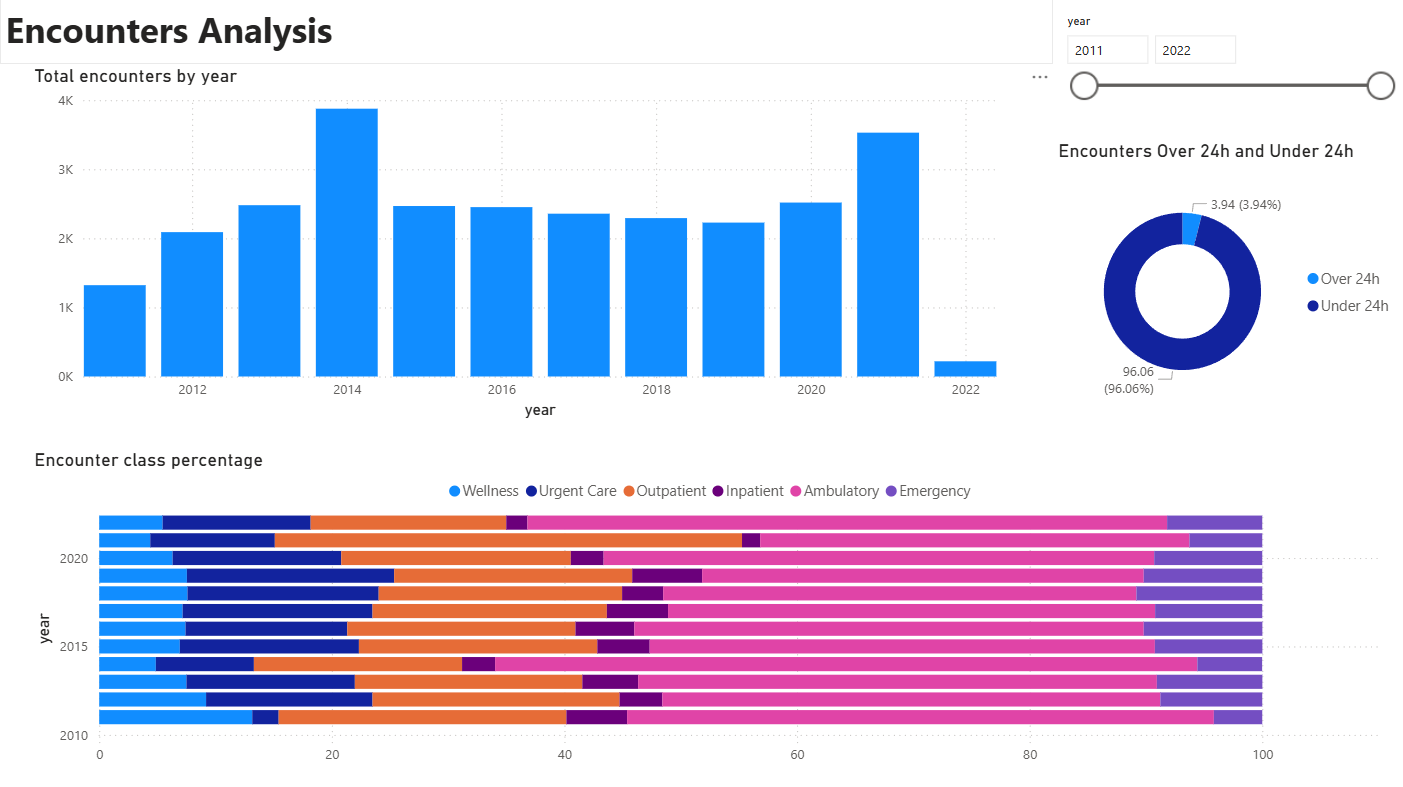

The dashboard page shown, as its layout file describes it:
{"tool":"powerbi","page":{"name":"Encounters Analysis","canvas":[1280,720],"ordinal":1},"visuals":[{"type":"columnChart","title":"Total encounters by year","fields":{"Y":["Sum(public mart_encounters_per_year.total_encounters)"],"Category":["public mart_encounters_per_year.year"]},"box":[0,59.2,913.5,327.8],"z":0},{"type":"hundredPercentStackedColumnChart","title":"Encounter class percentage","fields":{"Category":["public mart_encounter_class_percentage.year"],"Y":["Sum(public mart_encounter_class_percentage.wellness_pct)","Sum(public mart_encounter_class_percentage.urgentcare_pct)","Sum(public mart_encounter_class_percentage.outpatient_pct)","Sum(public mart_encounter_class_percentage.inpatient_pct)","Sum(public mart_encounter_class_percentage.ambulatory_pct)","Sum(public mart_encounter_class_percentage.emergency_pct)"]},"box":[34.9,409.2,1245.1,311.3],"z":1000},{"type":"donutChart","title":"Encounters Over 24h and Under 24h","fields":{"Y":["Sum(public mart_encounter_duration_percentage.over_24h_pct)","Sum(public mart_encounter_duration_percentage.under_24h_pct)"]},"box":[960,128,320,258.9],"z":2000},{"type":"slicer","fields":{"Values":["public mart_encounters_per_year.year"]},"box":[960,8.7,320,99.9],"z":3000},{"type":"textbox","box":[0,0,960,59.2],"z":4000}]}

Visuals, with their boxes in screenshot pixels (x1, y1, x2, y2), scaled from the page's 1280x720 canvas onto the 1403x787 screenshot:
"Total encounters by year" columnChart: 0:65:1001:423
"Encounter class percentage" hundredPercentStackedColumnChart: 38:447:1402:786
"Encounters Over 24h and Under 24h" donutChart: 1052:140:1402:423
slicer - public mart_encounters_per_year.year: 1052:10:1402:119
textbox: 0:0:1052:65
